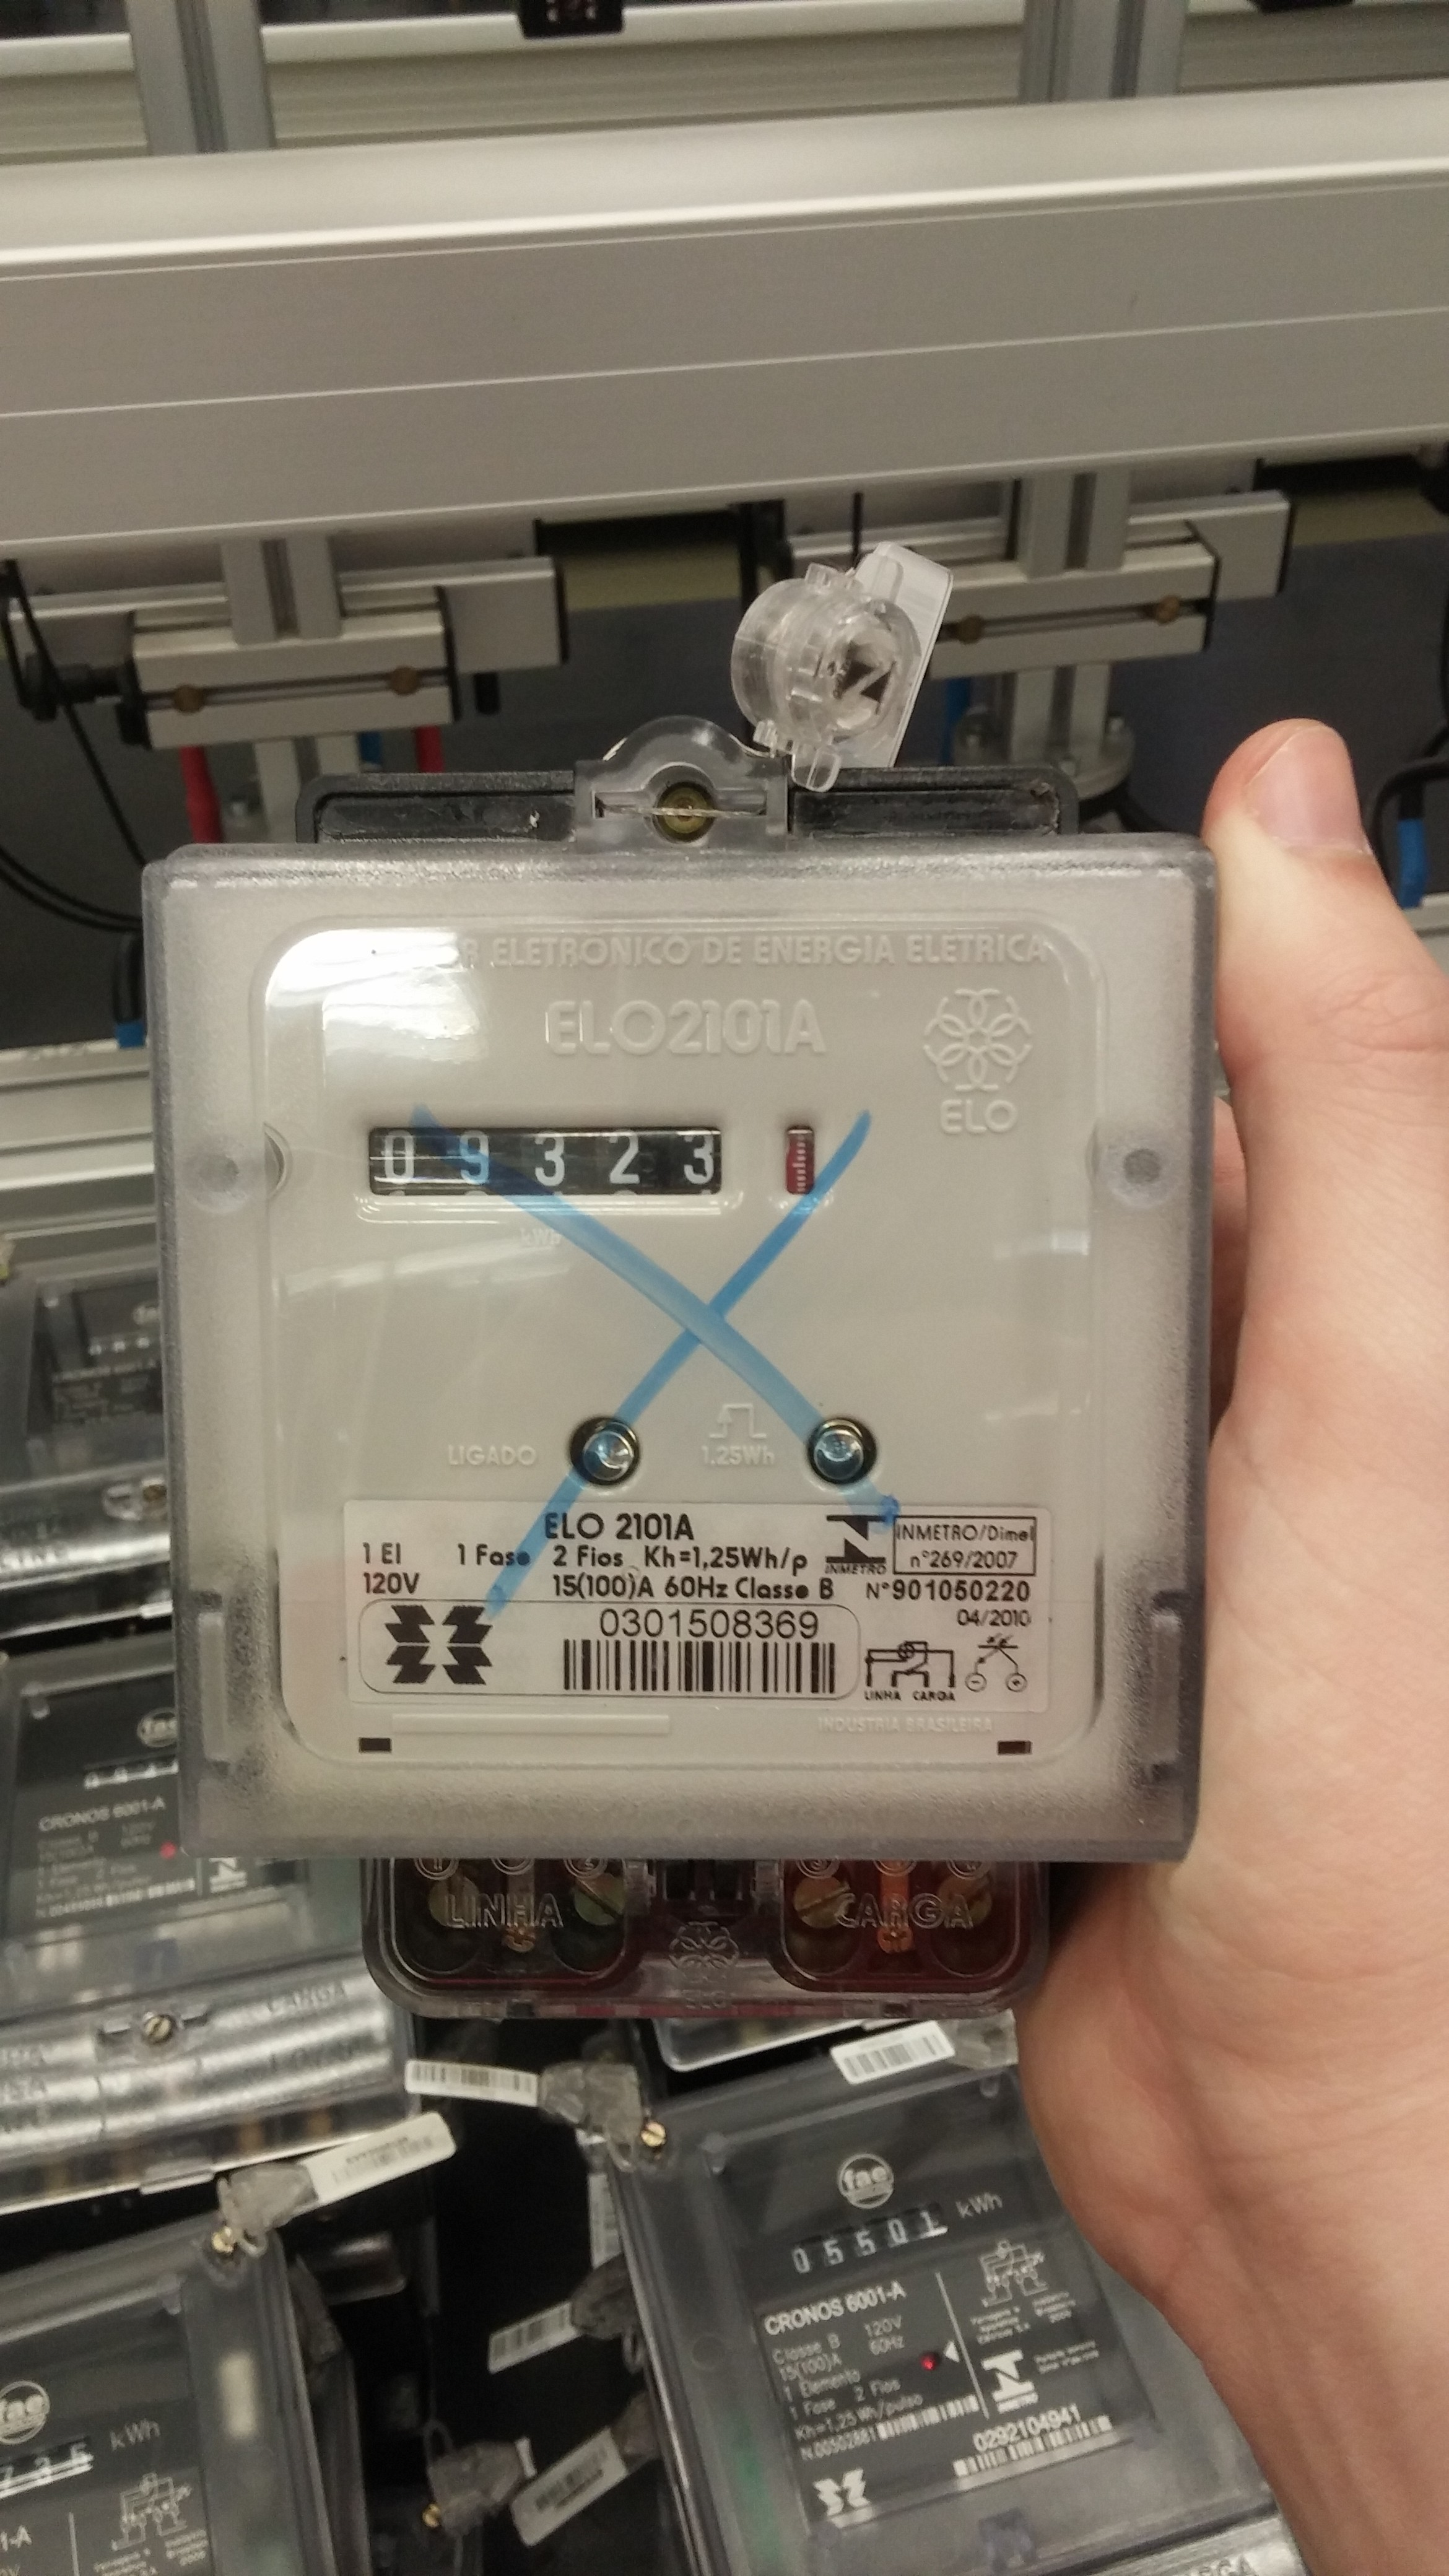counter2: (354, 1115, 748, 1205)
